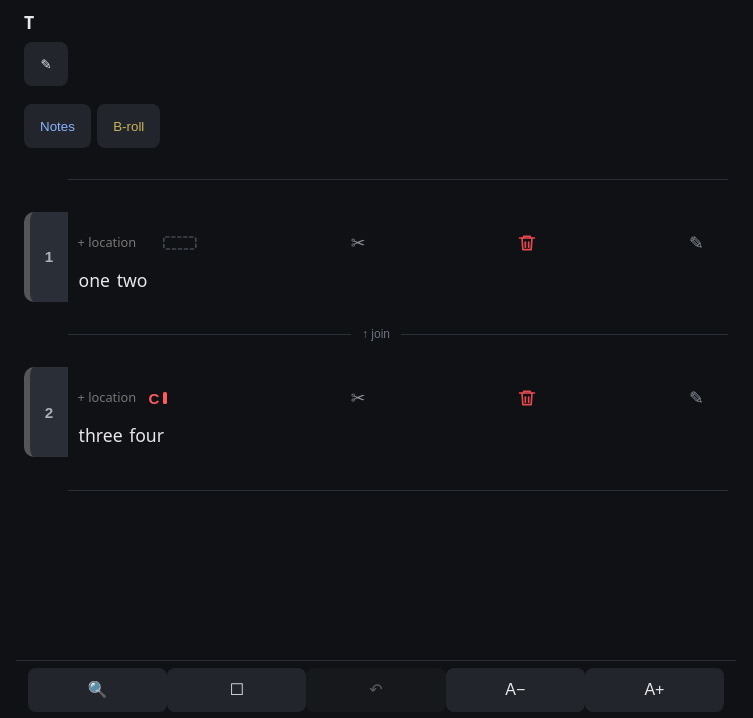
Scenario: deleting a card › the trash button removes the card and Undo brings it back
What coordinates should you click on to do the following:
click the 1st button with class "del-card"
I would click on:
 (527, 243)
Its box is x1=505 y1=221 x2=549 y2=265.
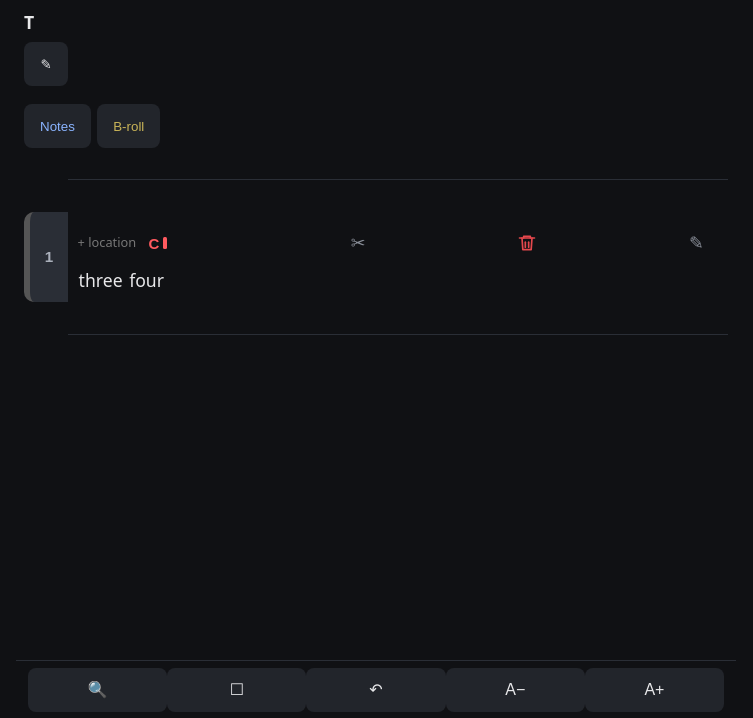
Expected: the number of elements with class "section" is 1, x1=24 y1=212 x2=728 y2=302
What coordinates should you click on to do the following:
click the button named "Undo"
I would click on:
 (376, 690)
Its box is x1=306 y1=668 x2=446 y2=712.
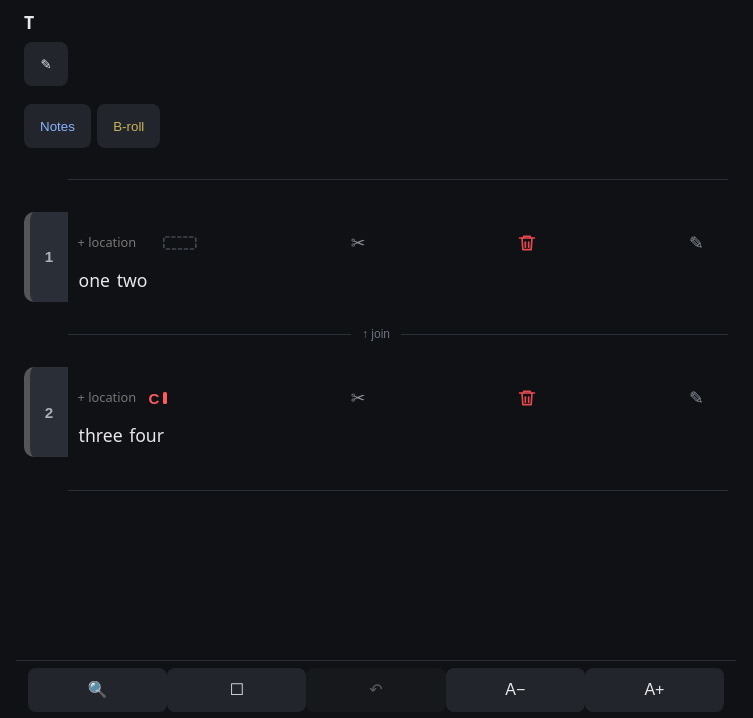
Expected: the number of elements with class "section" is 2, x1=24 y1=212 x2=728 y2=302; x1=24 y1=367 x2=728 y2=457
